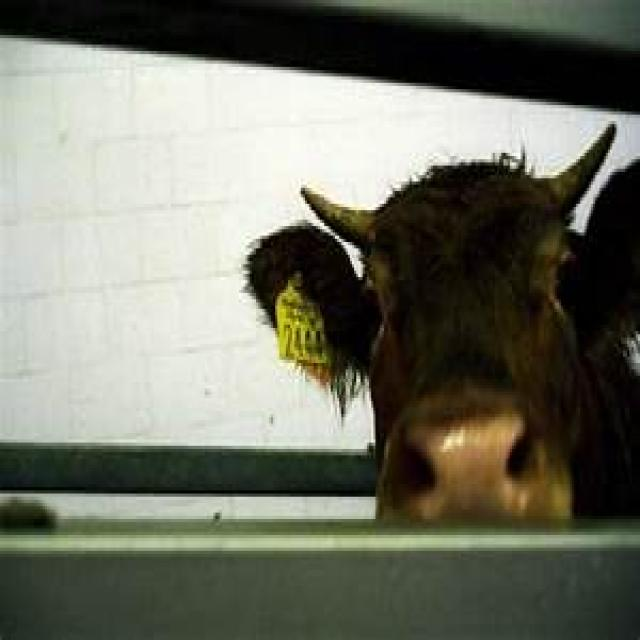cow: (248, 125, 640, 520)
